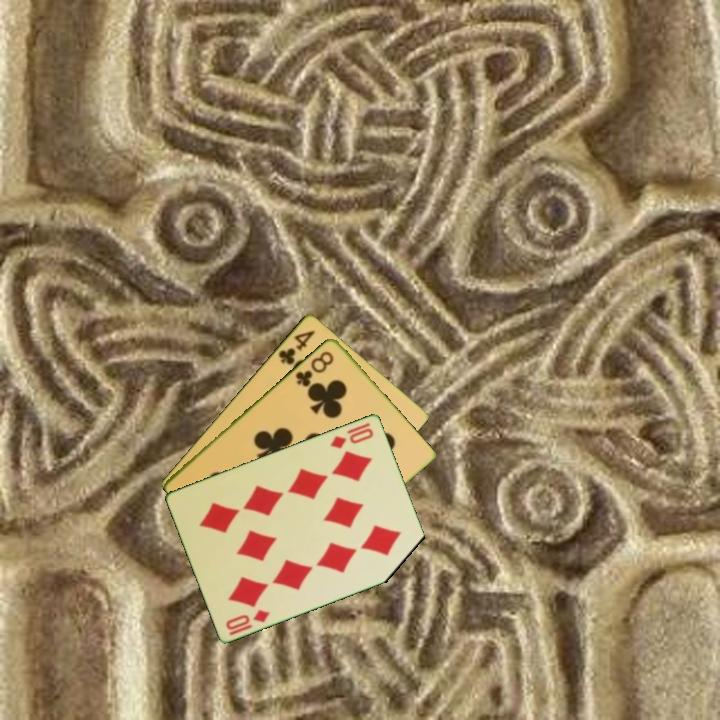10d: (222, 605, 273, 638), (327, 424, 377, 451)
4c: (274, 326, 318, 368)
8c: (292, 347, 337, 389)
